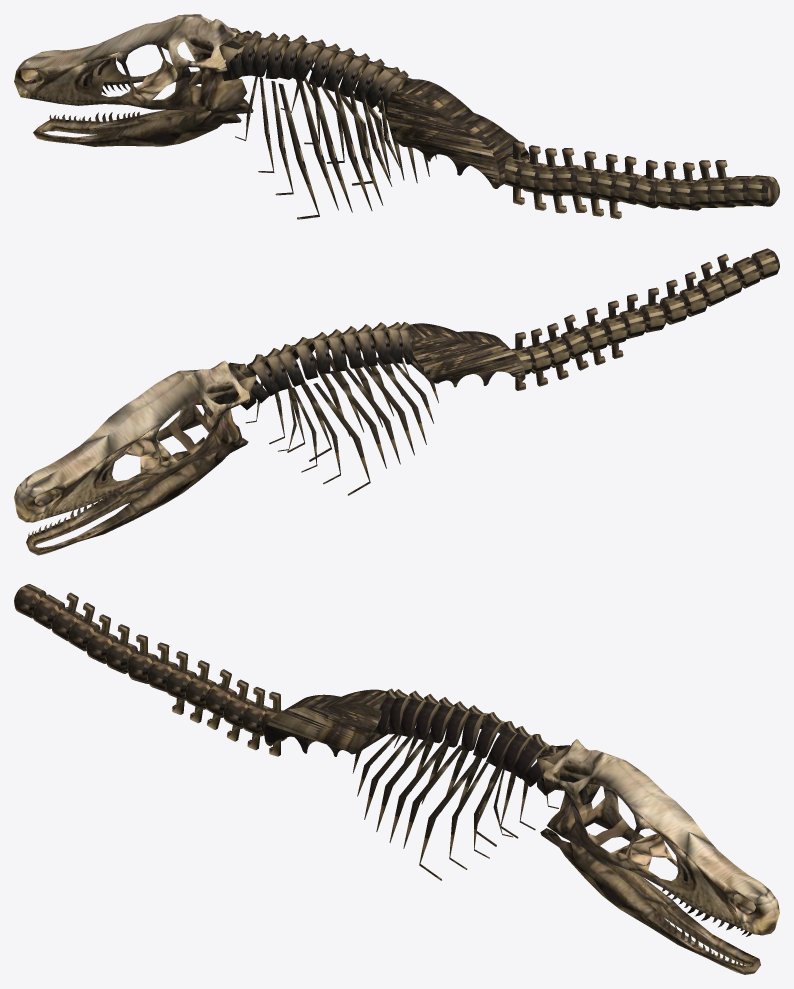
Rendered from animalBone3.fbx.
3 renders of one model, top to bottom at view 1: azimuth 90°, elevation 25°; view 2: azimuth 150°, elevation 25°; view 3: azimuth 270°, elevation 25°, orthographic. The views are drawn at different scales.
Parts seen in each view (by area): view 1: polySurface408; view 2: polySurface408; view 3: polySurface408.
Boxes of the visible parts, <box> form: polySurface408: <box>14,14,779,219</box>; polySurface408: <box>14,248,779,555</box>; polySurface408: <box>14,584,779,974</box>.
Bounding box in the file's own units: 16.5 × 6.08 × 23.3.
Materials: 3 (3 with a texture image).
